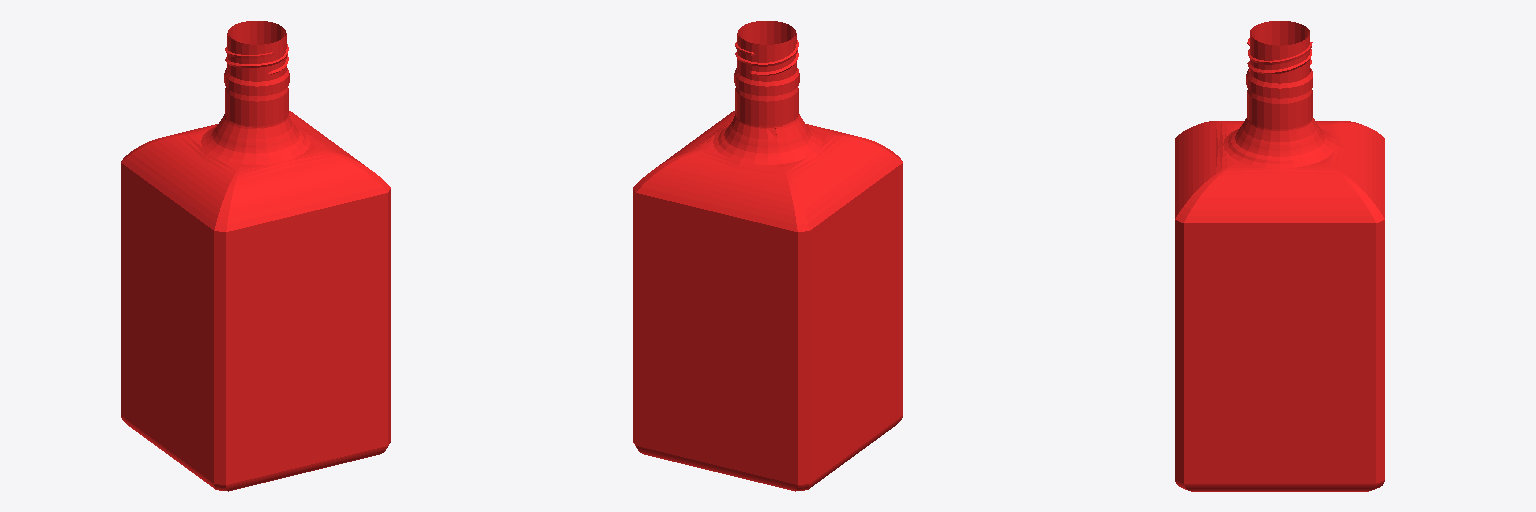
URDF robot description (bottle):
<?xml version="0.0" ?>
<robot name="bottle">
    <link concave="yes" name="base_link">
        <!-- <contact>
            <lateral_friction value="3.0"/>
            <rolling_friction value="3.0"/>
            <spinning_friction value="3.0"/>
        </contact> -->
        <inertial>
            <origin xyz="0 0 0.03"/>
            <mass value="1"/>
            <inertia ixx="1" ixy="0" ixz="0" iyy="1" iyz="0" izz="1"/>
        </inertial>
        <visual>
            <origin xyz="0.0 -0.0  0"/>
            <geometry>
                <mesh filename="bottle.obj" scale="0.022 0.022 0.022 "/>
            </geometry>
      <material name="bottle">
        <color rgba="1.0 0.2 0.2 1"/>
        <specular rgb="1 1 1"/>
      </material>
        </visual>
        <collision concave="yes">
            <origin xyz="0.0 -0.0 0"/>
            <geometry>
                <mesh filename="bottle.obj" scale="0.022 0.022 0.022 "/>
            </geometry>
        </collision>
    </link>
</robot>

--- Render facts (derived) ---
The picture shows the robot from 3 angles, left to right: view 1: azimuth 30°, elevation 25°; view 2: azimuth 150°, elevation 25°; view 3: azimuth 270°, elevation 25°; orthographic projection.
Model bottle with 1 links and 0 joints (none), rooted at base_link, posed every joint at zero.
Links seen in each view (by area): view 1: base_link; view 2: base_link; view 3: base_link.
Boxes of the visible links, x1,y1,x2,y2 form: base_link: (121,21,390,491); base_link: (633,21,902,491); base_link: (1175,21,1384,491).
Bounding box of the posed robot: 0.0729 × 0.0729 × 0.1598 m (x, y, z).
Meshes: 1 distinct files referenced, 1 mesh visuals loaded (1 OBJ).